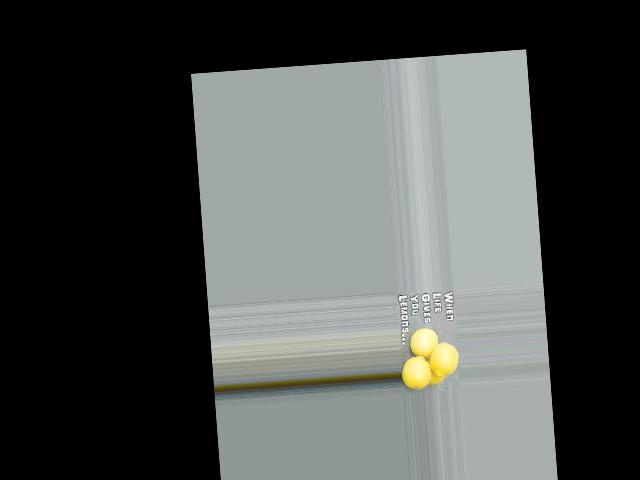lemon: (402, 353, 431, 390)
